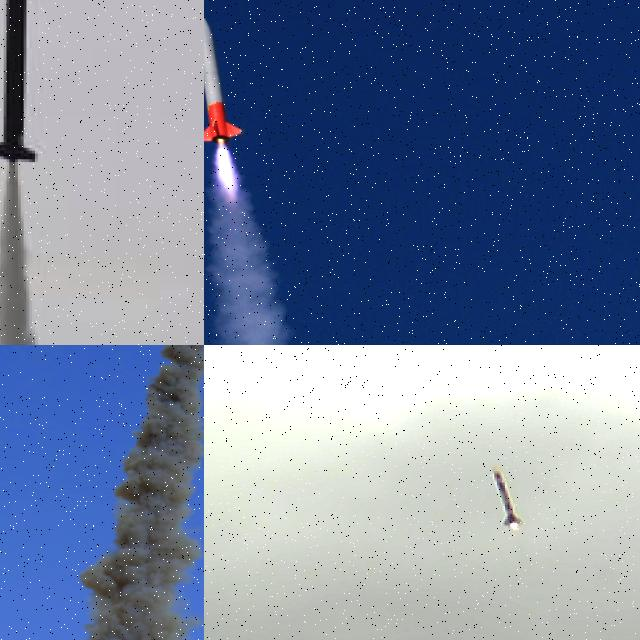Rocket: (0, 0, 42, 169), (204, 10, 244, 146), (491, 464, 524, 528)
